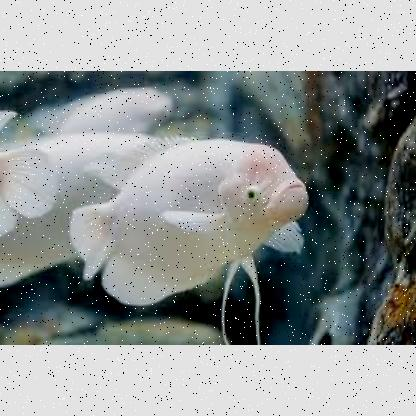gurame: (75, 139, 309, 298)
